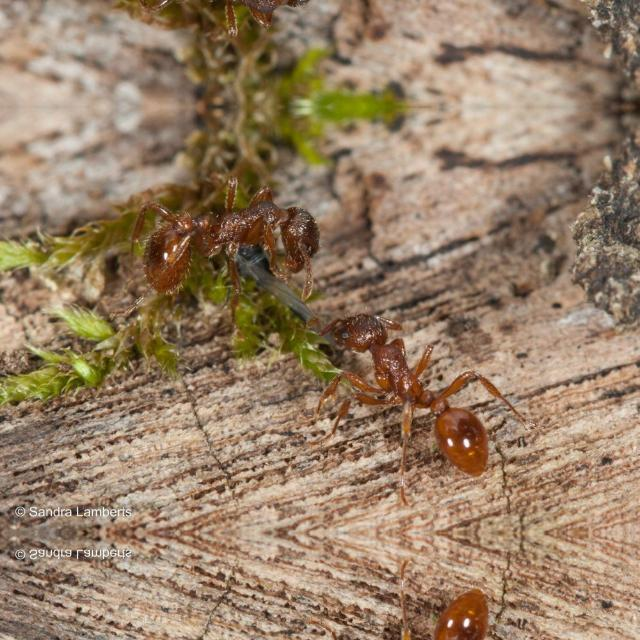Myrmica: (322, 287, 504, 468), (114, 172, 332, 304), (112, 0, 332, 40), (321, 594, 504, 640)
